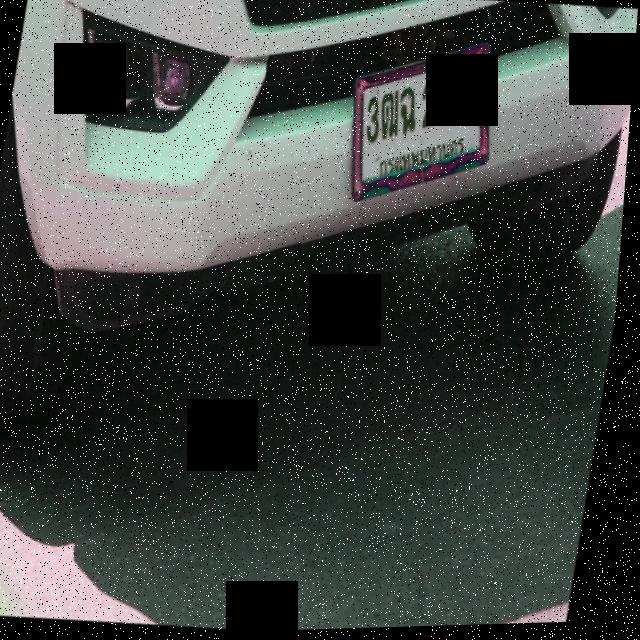text: (366, 62, 481, 184)
